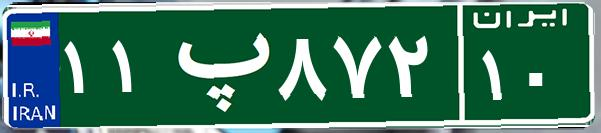0: (525, 38, 570, 115)
1: (57, 26, 110, 107), (475, 38, 525, 113), (110, 28, 158, 105)
2: (385, 28, 445, 110)
7: (330, 28, 385, 110)
8: (273, 28, 330, 110)
پ: (158, 15, 273, 115)
